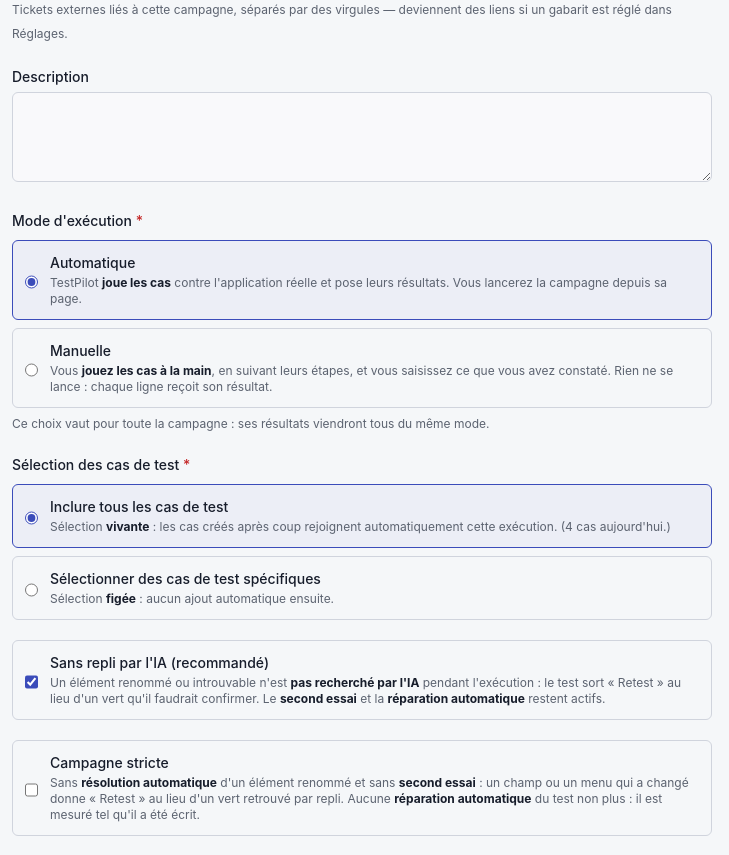
Scenario: AddTestRunForm — cas groupés Module → Section → Sous-section › un cas apparaît sous sa Section, une sous-section sous sa Section
(page scrolled)
Click the 4th radio button: (32, 590) 25,573 -> 38,607
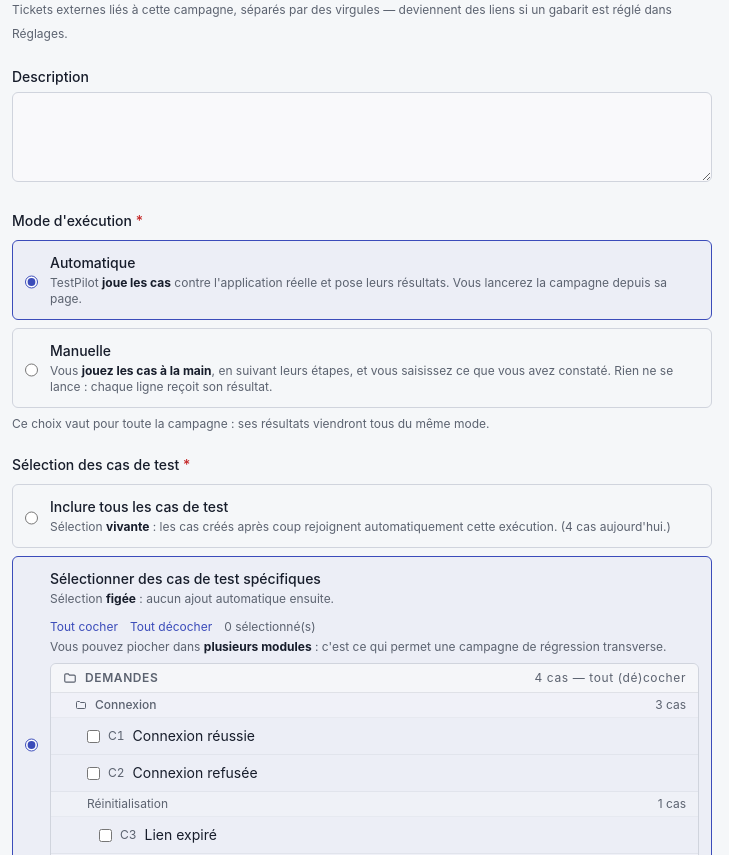
Now the text "Connexion" is shown, box 51,693 -> 698,718
Now the text "Réinitialisation" is shown, box 51,792 -> 698,817
Now the text "Connexion réussie" is shown, box 132,726 -> 255,746
